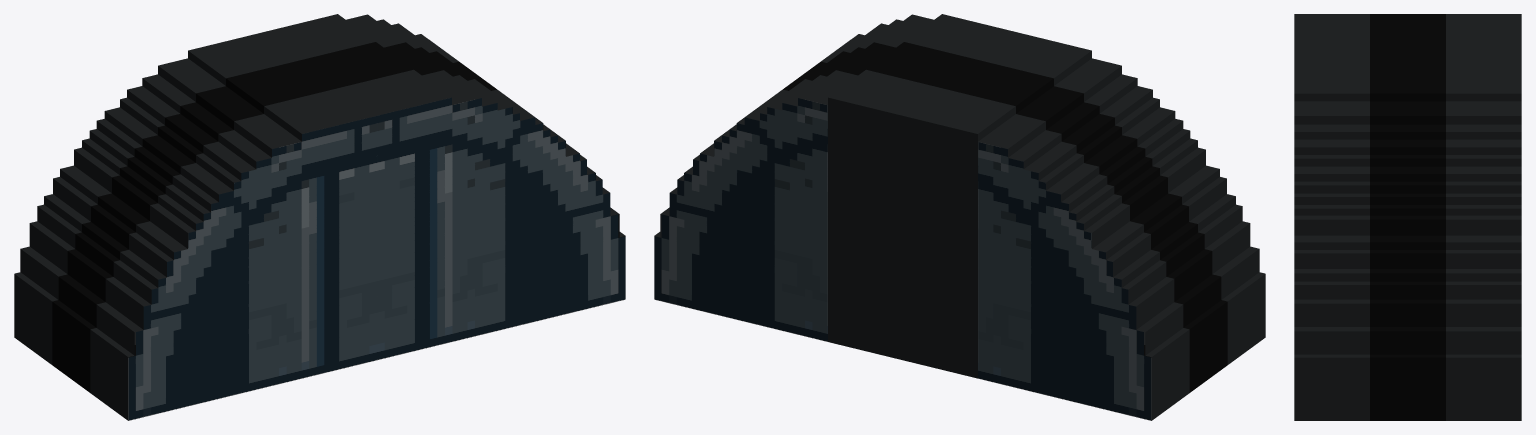
The model's file is Platform3.fbx.
The picture shows the model from 3 angles, left to right: view 1: azimuth 30°, elevation 25°; view 2: azimuth 150°, elevation 25°; view 3: azimuth 270°, elevation 25°; orthographic projection.
Visible parts, largest first — view 1: PixelArt13; view 2: PixelArt13; view 3: PixelArt13.
Part boxes in pixels (x1,y1,x2,y2): PixelArt13: (14, 14, 625, 420); PixelArt13: (654, 14, 1265, 420); PixelArt13: (1294, 14, 1521, 420).
Bounding box in the file's own units: 64.69 × 30.38 × 25.71.
